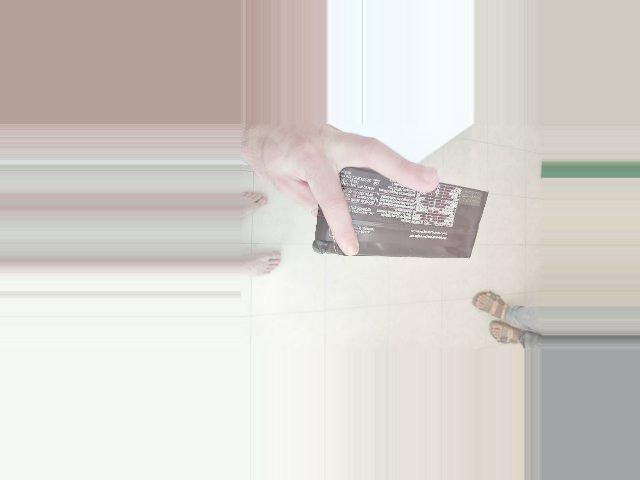chocolate: (350, 173, 458, 355)
